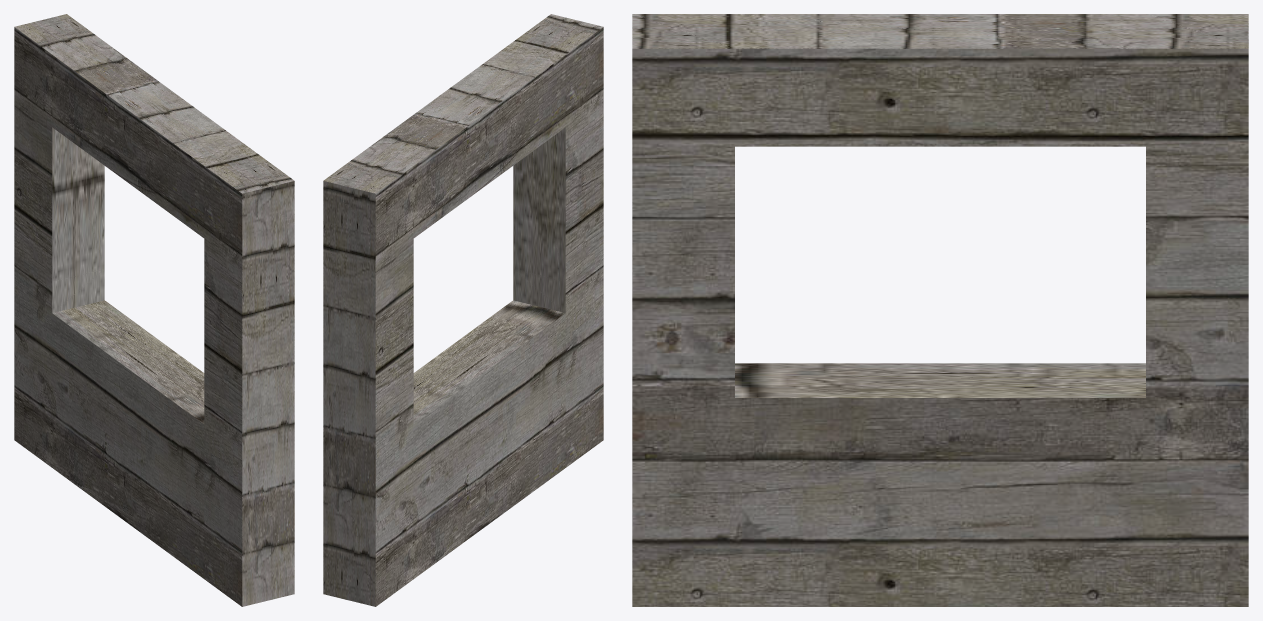
File: window.glb
The picture shows the model from 3 angles, left to right: view 1: azimuth 30°, elevation 25°; view 2: azimuth 150°, elevation 25°; view 3: azimuth 270°, elevation 25°; orthographic projection. The views are drawn at different scales.
Visible parts, largest first — view 1: wall; view 2: wall; view 3: wall.
Boxes of the visible parts, box(x1,y1,x2,y2) form: wall: box(14, 14, 294, 606); wall: box(323, 14, 603, 606); wall: box(632, 14, 1248, 606).
Bounding box in the file's own units: 0.4 × 3 × 3.
Materials: 1 (1 with a texture image).
